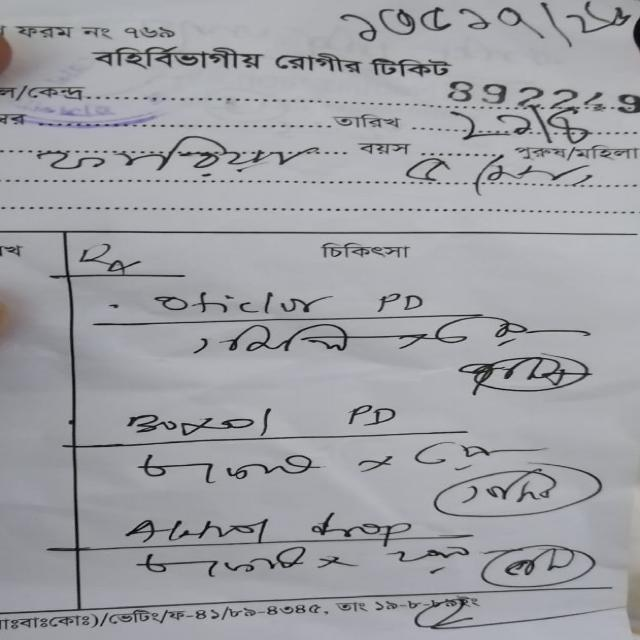medicine: (118, 406, 294, 446), (120, 512, 290, 542), (154, 291, 342, 317)
